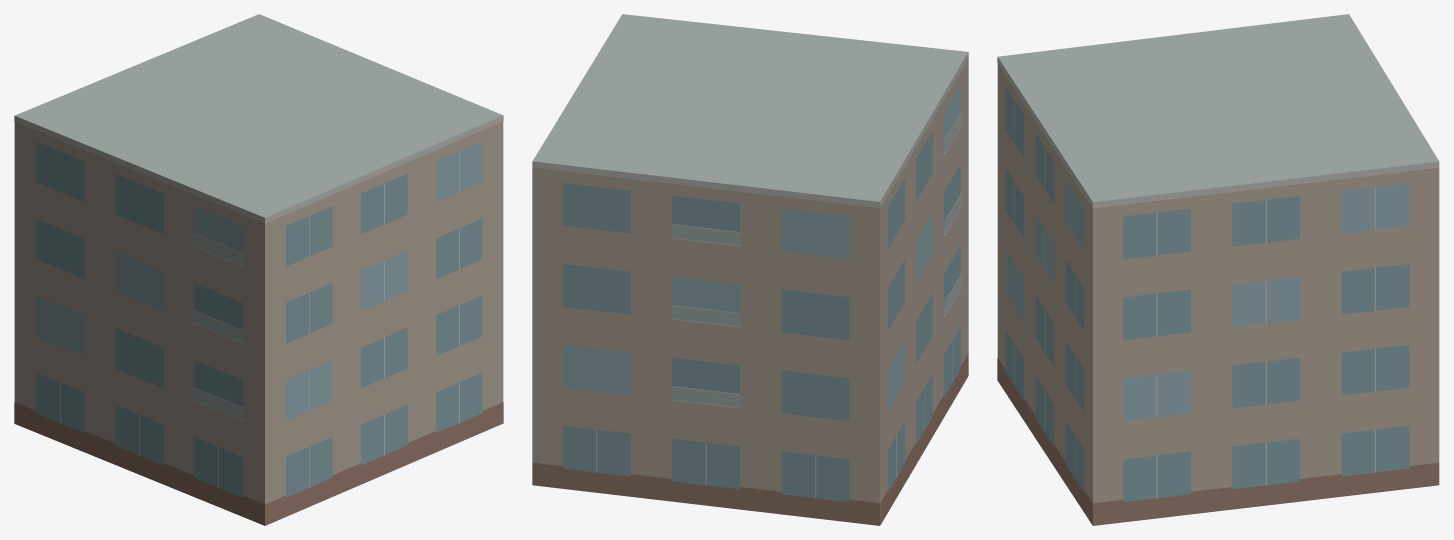
Rendered from survey-upis-32693126.glb.
3 renders of one model, left to right at view 1: azimuth 30°, elevation 25°; view 2: azimuth 150°, elevation 25°; view 3: azimuth 270°, elevation 25°, orthographic. The views are drawn at different scales.
Visible parts, largest first — view 1: survey-upis-32693126.tmp; view 2: survey-upis-32693126.tmp; view 3: survey-upis-32693126.tmp.
Part boxes in pixels (bbox=[...]): survey-upis-32693126.tmp: bbox=[14, 14, 503, 525]; survey-upis-32693126.tmp: bbox=[532, 14, 968, 525]; survey-upis-32693126.tmp: bbox=[997, 14, 1439, 525].
Bounding box in the file's own units: 15.84 × 12.7 × 15.72.
